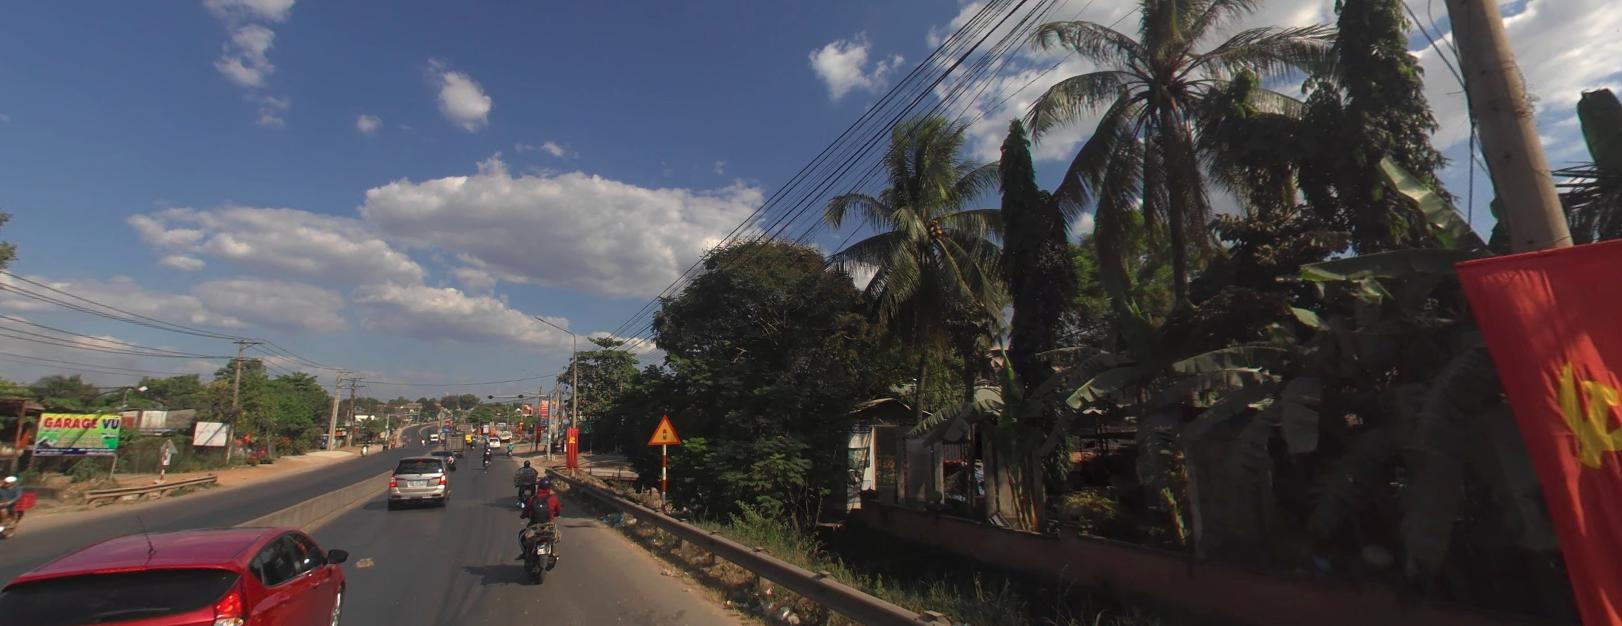Cam nguoc chieu: (443, 418, 449, 423)
Hieu lenh: (442, 424, 449, 431)
Nguy hiem: (645, 411, 683, 444)
